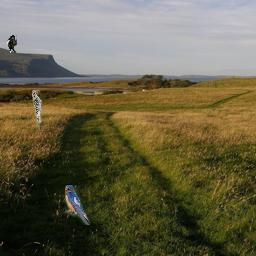Swallow: (65, 185, 90, 225)
Woodpecker: (32, 90, 42, 130), (7, 35, 17, 53)
